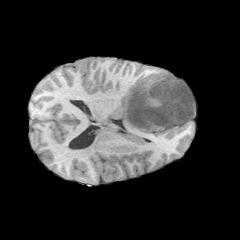glioma: (114, 75, 186, 135)
